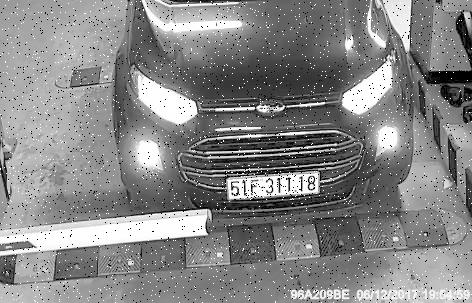License-plate: (223, 172, 326, 201)
